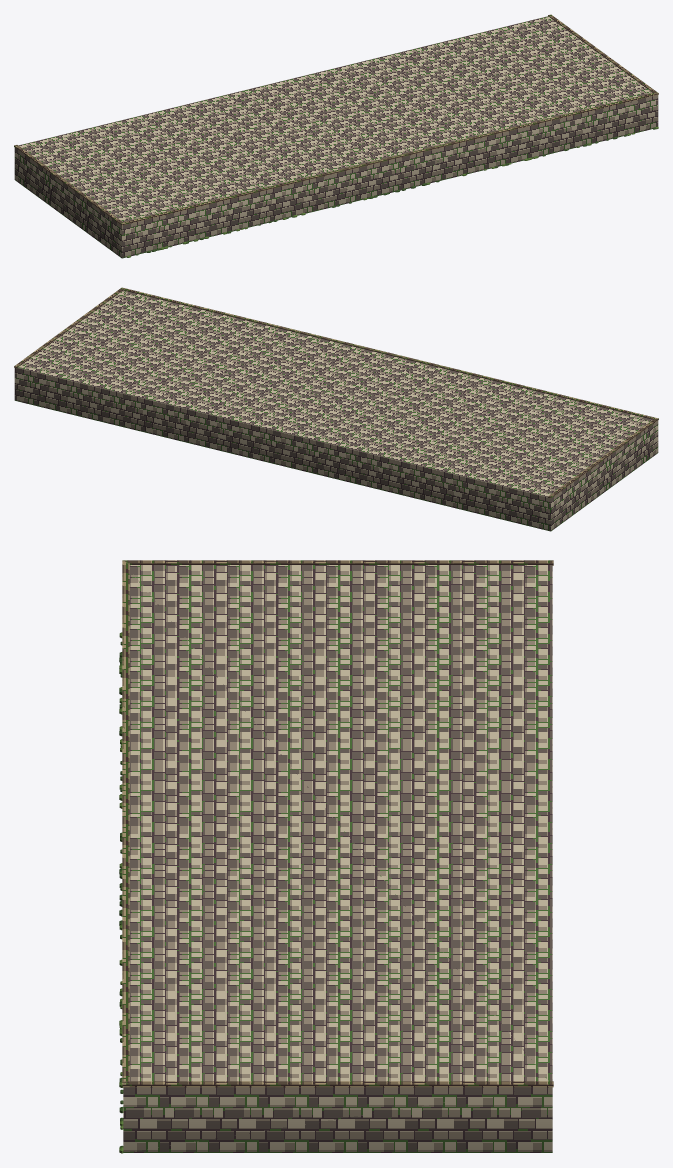
Rendered from scene_wall_n.glb.
The picture shows the model from 3 angles, top to bottom: view 1: azimuth 30°, elevation 25°; view 2: azimuth 150°, elevation 25°; view 3: azimuth 270°, elevation 25°; orthographic projection. The views are drawn at different scales.
Parts seen in each view (by area): view 1: scene_wall_n; view 2: scene_wall_n; view 3: scene_wall_n.
Part boxes in pixels (bbox=[...]): scene_wall_n: bbox=[14, 14, 658, 258]; scene_wall_n: bbox=[14, 287, 658, 531]; scene_wall_n: bbox=[119, 560, 553, 1153].
Size of the model in its own units: 60.1 by 3.77 by 21.04.
2 materials, 1 textured.
